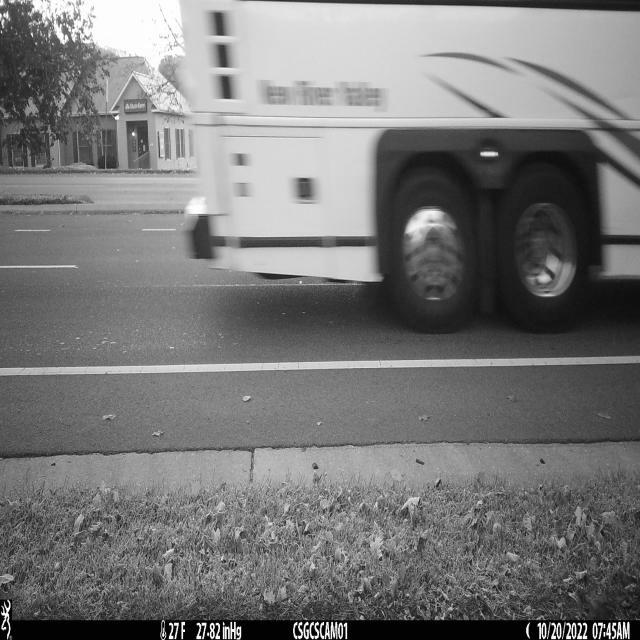Bus: (178, 0, 640, 334)
